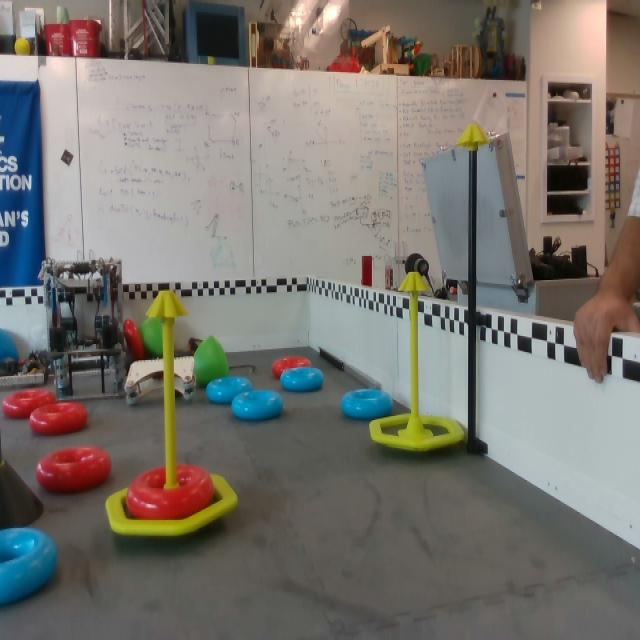Blue-Ring: (0, 528, 58, 608), (340, 389, 393, 421), (234, 389, 284, 421), (206, 377, 253, 404), (281, 368, 324, 393)
Mobile-Goal: (106, 291, 238, 537), (370, 272, 467, 456)
Red-Ring: (125, 466, 216, 519), (34, 448, 111, 496), (29, 403, 88, 433), (2, 391, 59, 419), (121, 319, 146, 360), (274, 356, 310, 378)
Yellow-Stake-Head: (146, 291, 188, 320), (456, 124, 491, 148), (398, 272, 429, 293)
